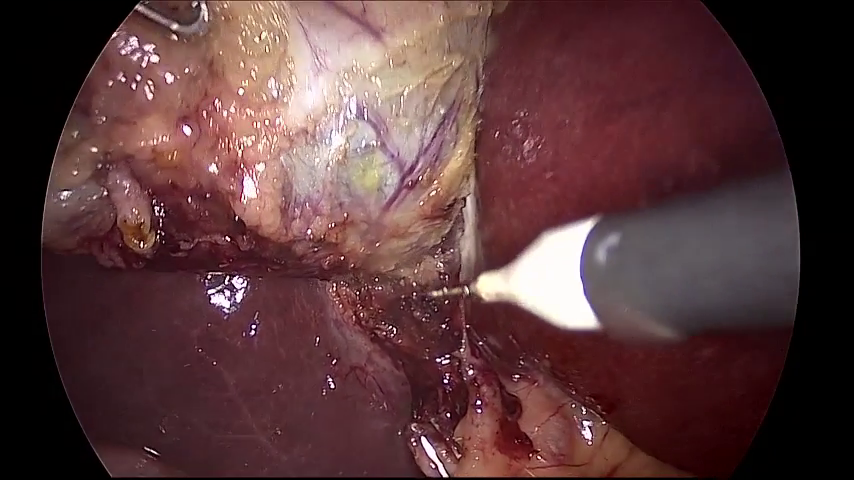grasper: (134, 1, 209, 33)
lhook: (428, 163, 800, 343)
